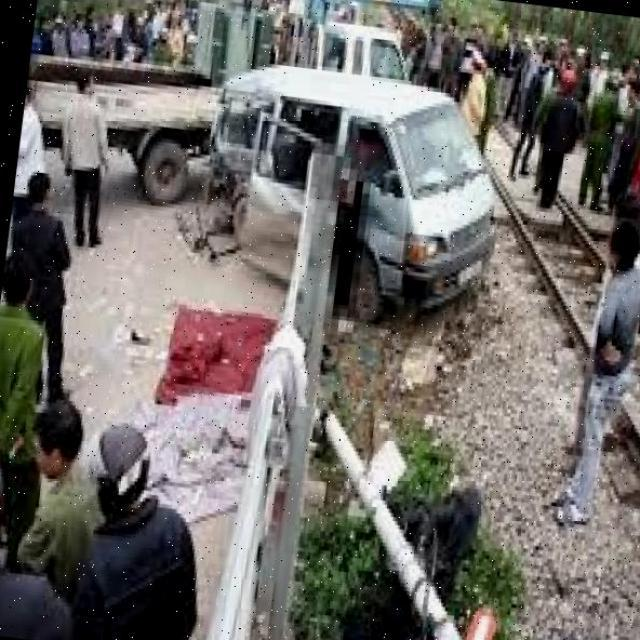accident: (172, 47, 526, 353)
